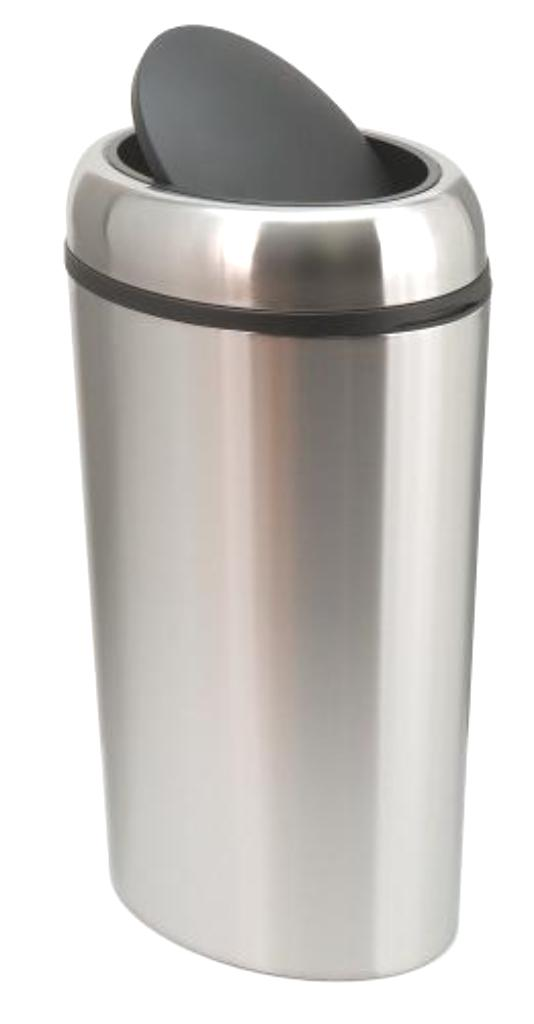dustbin: (51, 10, 512, 981)
